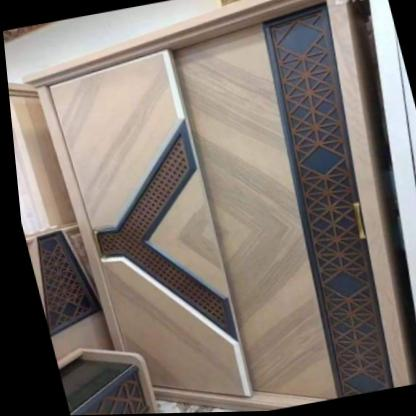Closet: (23, 0, 401, 401)
